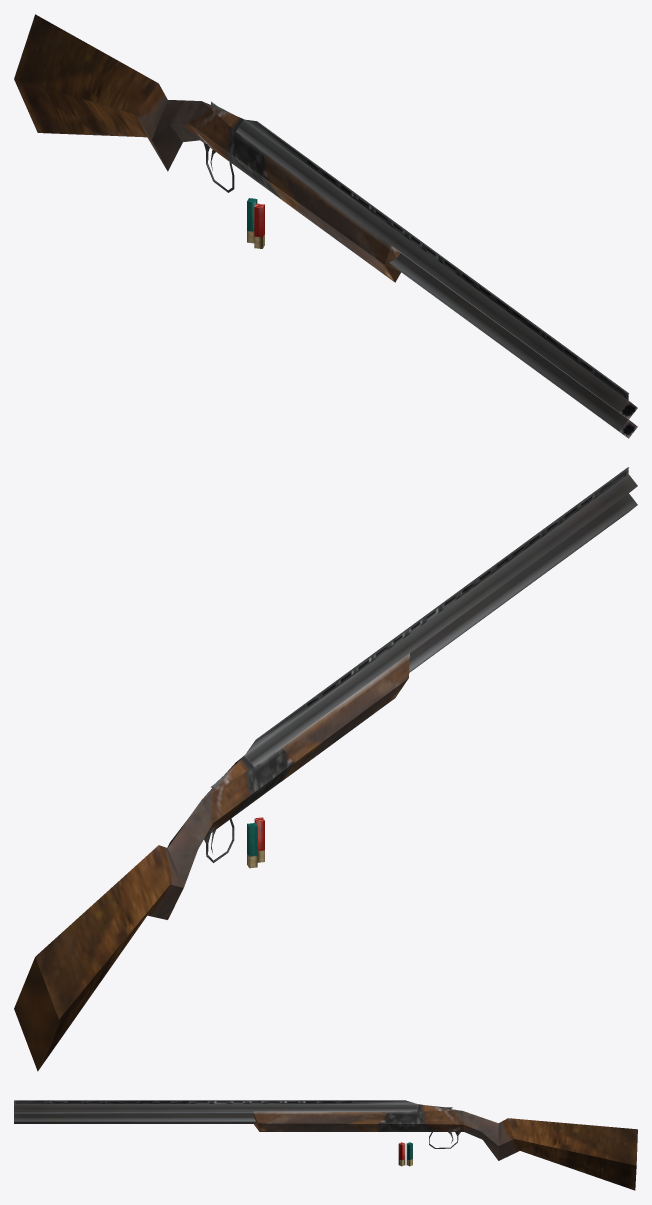
The model's file is over_under_shotgun.obj.
3 renders of one model, top to bottom at view 1: azimuth 30°, elevation 25°; view 2: azimuth 150°, elevation 25°; view 3: azimuth 270°, elevation 25°, orthographic. The views are drawn at different scales.
Visible parts, largest first — view 1: Barrel&HandGaurd.001, Body.001; view 2: Barrel&HandGaurd.001, Body.001; view 3: Barrel&HandGaurd.001, Body.001, ShellLowPolyRed.001, ShellLowPolyGreen.001.
Boxes of the visible parts, x1,y1,x2,y2 form: Barrel&HandGaurd.001: (236, 119, 637, 438); Body.001: (14, 14, 280, 198); Barrel&HandGaurd.001: (245, 467, 637, 781); Body.001: (14, 747, 293, 1071); Barrel&HandGaurd.001: (14, 1100, 417, 1131); Body.001: (379, 1104, 637, 1190); ShellLowPolyRed.001: (398, 1142, 405, 1166); ShellLowPolyGreen.001: (406, 1142, 412, 1166).
Bounding box in the file's own units: 0.2067 × 0.754 × 4.72.
4 materials, 4 textured.
